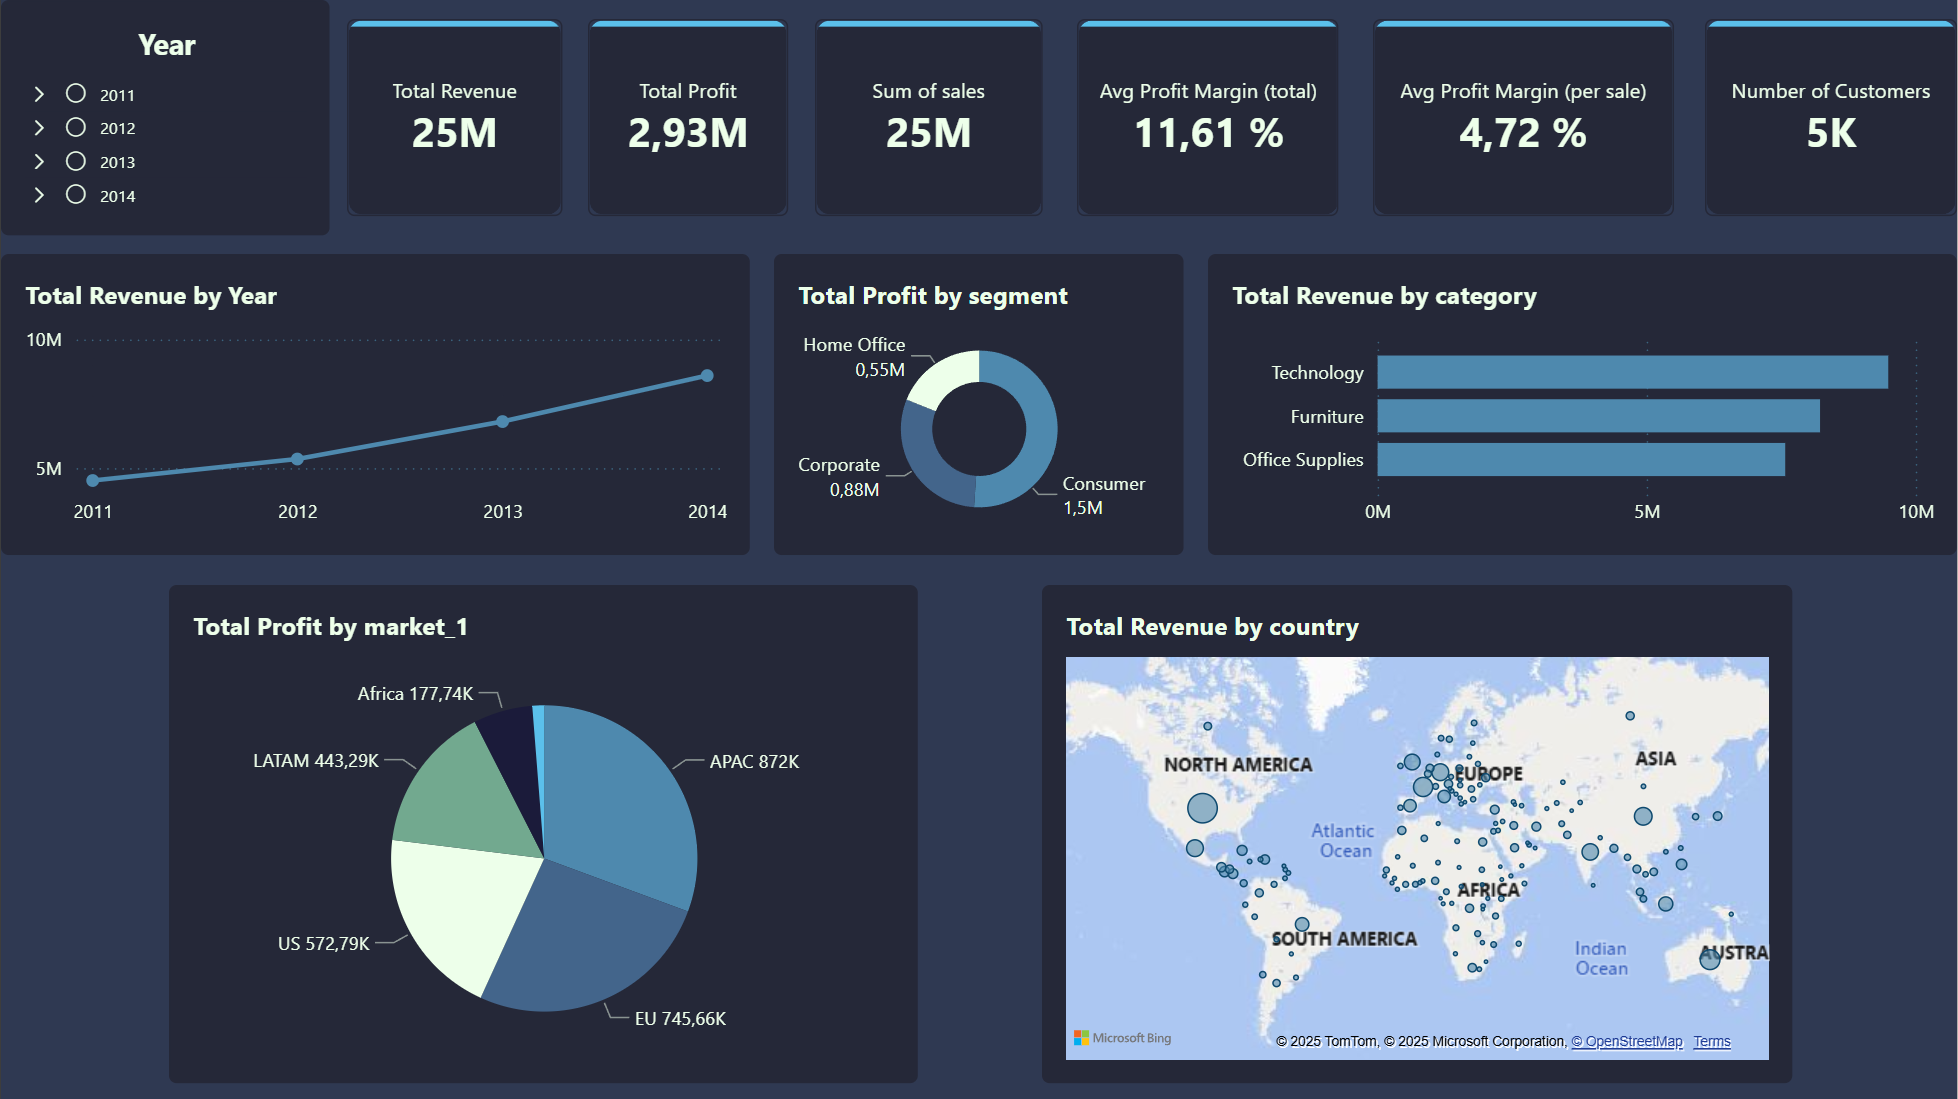

The dashboard page shown, as its layout file describes it:
{"tool":"powerbi","page":{"name":"Page 1","canvas":[1280,720],"ordinal":0},"visuals":[{"type":"listSlicer","fields":{"Values":["public orders.order_date.Variation.Date Hierarchy.Year","public orders.order_date.Variation.Date Hierarchy.Quarter","public orders.order_date.Variation.Date Hierarchy.Month","public orders.order_date.Variation.Date Hierarchy.Day"]},"box":[0,0,215.3,154.4],"z":0},{"type":"cardVisual","fields":{"Data":["Measure Table.Total Revenue"]},"box":[226.4,12.4,140.7,128.9],"z":1000},{"type":"cardVisual","fields":{"Data":["Measure Table.Total Profit"]},"box":[384.1,12.4,130.9,128.9],"z":2000},{"type":"cardVisual","fields":{"Data":["Measure Table.Avg Profit Margin (weighted)"]},"box":[704.1,12.4,171.5,128.9],"z":3000},{"type":"cardVisual","fields":{"Data":["Measure Table.Avg Profit Margin (row avg)"]},"box":[897.8,12.4,197,128.9],"z":4000},{"type":"cardVisual","fields":{"Data":["Measure Table.Number of Customers"]},"box":[1115.1,12.4,164.9,128.9],"z":5000},{"type":"cardVisual","fields":{"Data":["Sum(public orders.sales)"]},"box":[532.7,12.4,148.5,128.9],"z":6000},{"type":"clusteredBarChart","fields":{"Category":["public orders.category"],"Y":["Measure Table.Total Revenue"]},"box":[789.9,166.2,490.1,197],"z":7000},{"type":"lineChart","fields":{"Category":["public orders.order_date.Variation.Date Hierarchy.Year","public orders.order_date.Variation.Date Hierarchy.Quarter","public orders.order_date.Variation.Date Hierarchy.Month","public orders.order_date.Variation.Date Hierarchy.Day"],"Y":["Measure Table.Total Revenue"]},"box":[0,166.2,490.1,197],"z":8000},{"type":"donutChart","fields":{"Category":["public orders.segment"],"Y":["Measure Table.Total Profit"]},"box":[505.8,166.2,267.6,197],"z":9000},{"type":"pieChart","fields":{"Y":["Measure Table.Total Profit"],"Category":["public orders.market_1"]},"box":[109.9,382.8,490.1,325.9],"z":10000},{"type":"map","fields":{"Category":["public orders.country"],"Size":["Measure Table.Total Revenue"]},"box":[681.2,382.8,490.8,325.9],"z":11000}]}

Visuals, with their boxes in screenshot pixels (x1, y1, x2, y2), scaled from the page's 1280x720 canvas onto the 1958x1099 screenshot:
listSlicer - public orders.order_date.Variation.Date Hierarchy.Year x public orders.order_date.Variation.Date Hierarchy.Quarter: bbox=[0, 0, 329, 236]
cardVisual - Measure Table.Total Revenue: bbox=[346, 19, 562, 216]
cardVisual - Measure Table.Total Profit: bbox=[588, 19, 788, 216]
cardVisual - Measure Table.Avg Profit Margin (weighted): bbox=[1077, 19, 1339, 216]
cardVisual - Measure Table.Avg Profit Margin (row avg): bbox=[1373, 19, 1675, 216]
cardVisual - Measure Table.Number of Customers: bbox=[1706, 19, 1957, 216]
cardVisual - Sum(public orders.sales): bbox=[815, 19, 1042, 216]
clusteredBarChart - public orders.category x Measure Table.Total Revenue: bbox=[1208, 254, 1957, 554]
lineChart - public orders.order_date.Variation.Date Hierarchy.Year x public orders.order_date.Variation.Date Hierarchy.Quarter: bbox=[0, 254, 750, 554]
donutChart - public orders.segment x Measure Table.Total Profit: bbox=[774, 254, 1183, 554]
pieChart - Measure Table.Total Profit x public orders.market_1: bbox=[168, 584, 918, 1082]
map - public orders.country x Measure Table.Total Revenue: bbox=[1042, 584, 1793, 1082]
